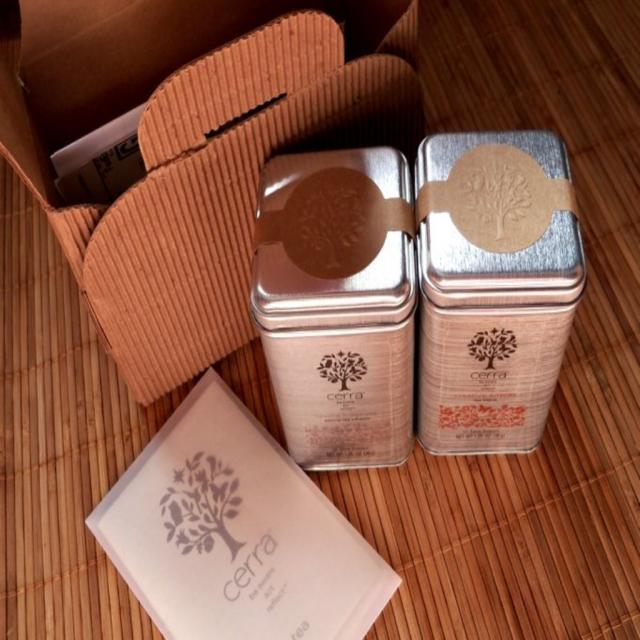Box: (1, 0, 429, 408), (418, 129, 582, 454), (251, 145, 414, 468)
